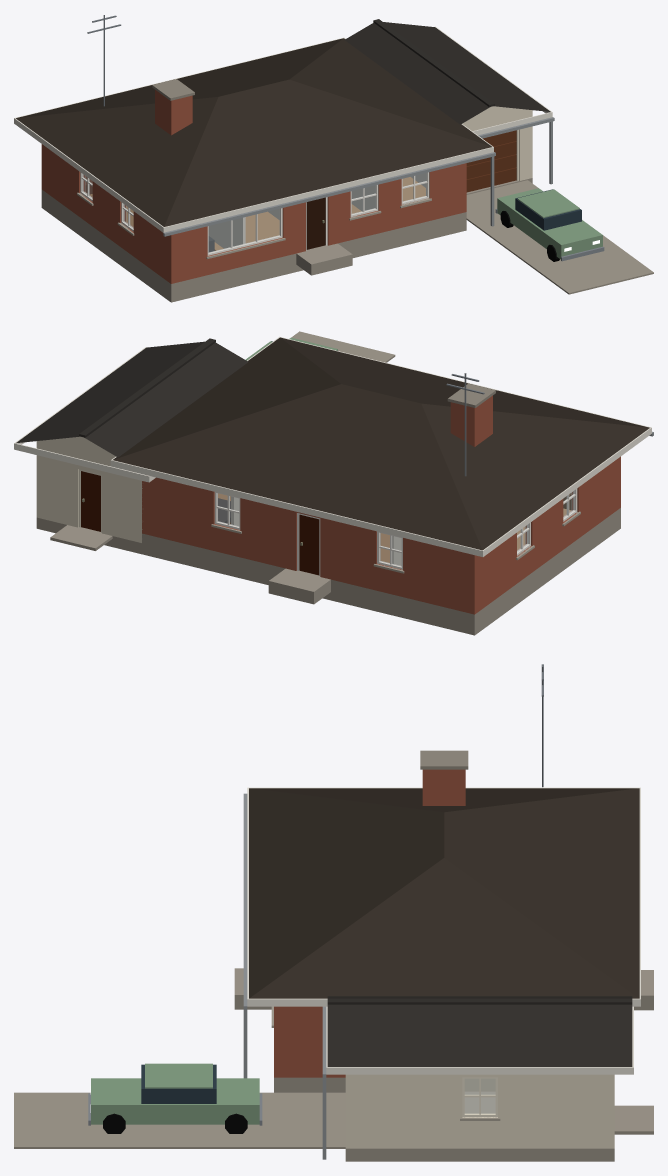
The model's file is ranch.glb.
The picture shows the model from 3 angles, top to bottom: view 1: azimuth 30°, elevation 25°; view 2: azimuth 150°, elevation 25°; view 3: azimuth 270°, elevation 25°; orthographic projection. The views are drawn at different scales.
Visible parts, largest first — view 1: LOD0, LEAF0; view 2: LOD0, LEAF1, LEAF2; view 3: LOD0.
Part boxes in pixels (box(x1,y1,x2,y2)): LOD0: box(14, 15, 653, 302); LEAF0: box(306, 197, 325, 249); LOD0: box(14, 331, 653, 635); LEAF1: box(299, 514, 319, 575); LEAF2: box(81, 471, 100, 531); LOD0: box(14, 664, 653, 1161).
Size of what is drawn, in the model's own units: 17.77 by 8.27 by 17.85.
